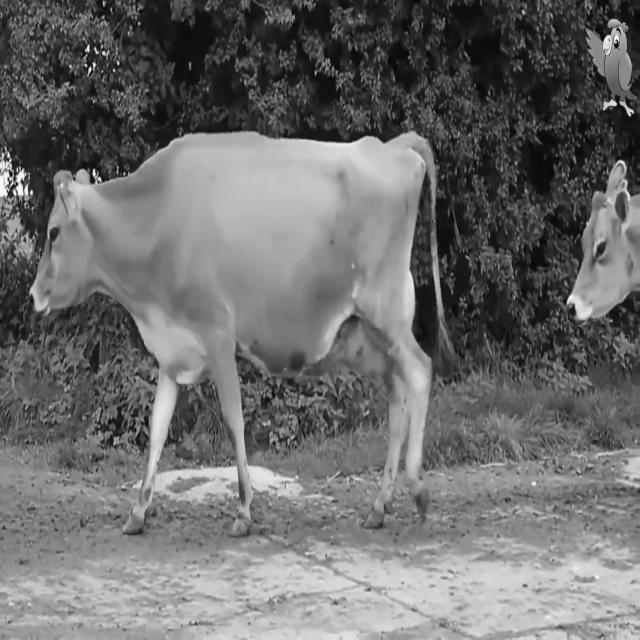cow: (31, 132, 448, 536), (568, 161, 640, 321)
